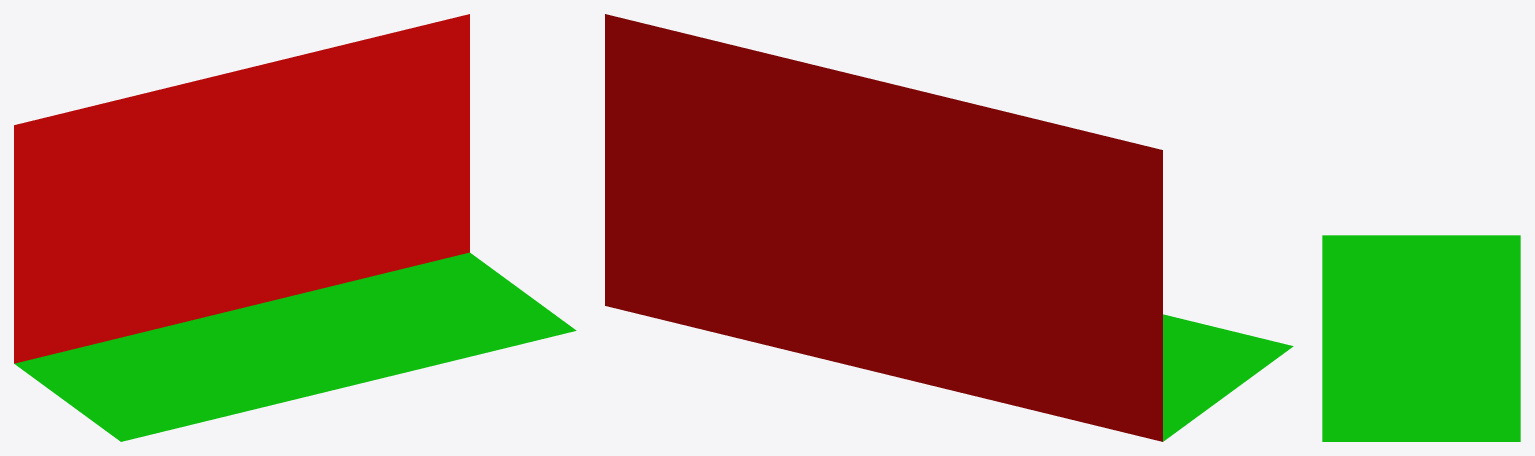
The picture shows the model from 3 angles, left to right: view 1: azimuth 30°, elevation 25°; view 2: azimuth 150°, elevation 25°; view 3: azimuth 270°, elevation 25°; orthographic projection. The views are drawn at different scales.
Parts seen in each view (by area): view 1: None_A_W_A_E_A_W_A_E_None; view 2: None_A_W_A_E_A_W_A_E_None; view 3: None_A_W_A_E_A_W_A_E_None.
Part boxes in pixels (x1,y1,x2,y2): None_A_W_A_E_A_W_A_E_None: [14, 14, 576, 441]; None_A_W_A_E_A_W_A_E_None: [605, 14, 1293, 441]; None_A_W_A_E_A_W_A_E_None: [1322, 235, 1520, 441].
Bounding box in the file's own units: 100 × 50 × 40.62.
